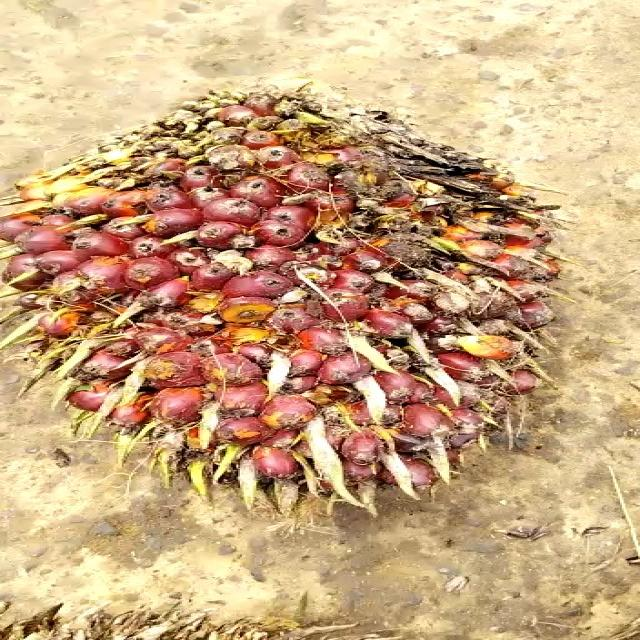palm oil: (0, 79, 580, 524)
